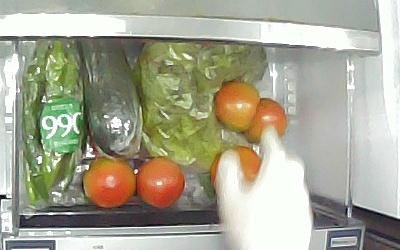tomato: (80, 155, 136, 208), (134, 156, 185, 208), (212, 78, 260, 132), (243, 96, 287, 144)
